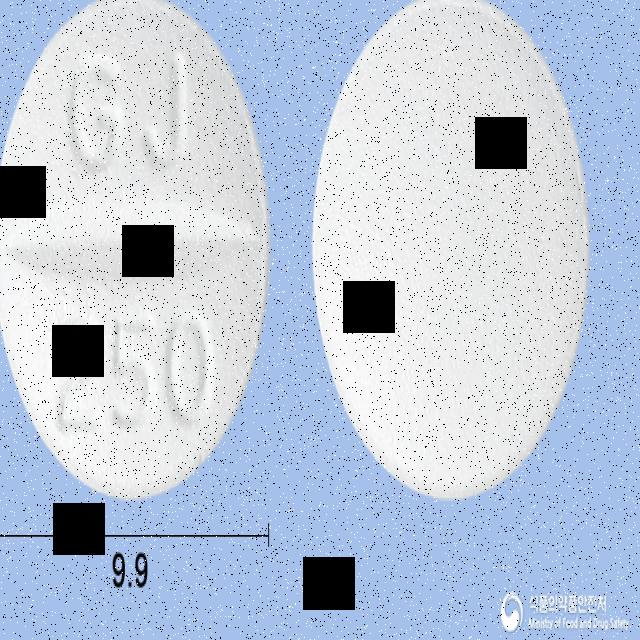Newloxacin Tab: (0, 0, 268, 498)
